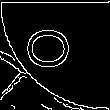O_E: (29, 34, 81, 76)
